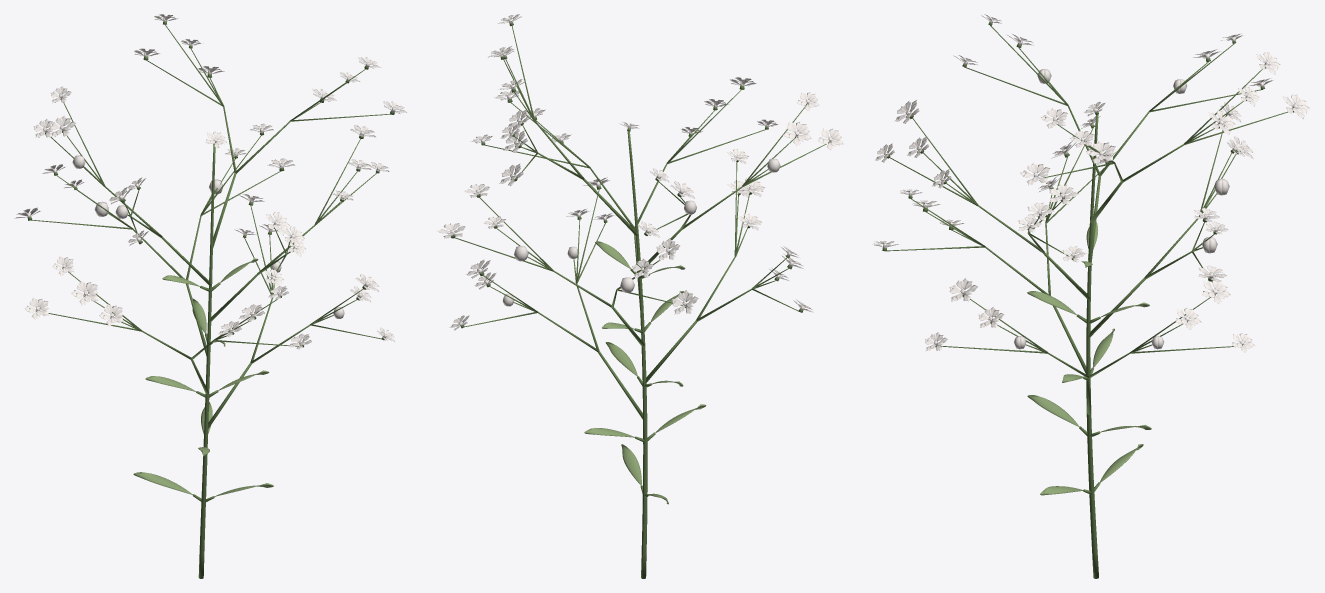
Rendered from gypsophila-legendary-v2.glb.
The picture shows the model from 3 angles, left to right: view 1: azimuth 30°, elevation 25°; view 2: azimuth 150°, elevation 25°; view 3: azimuth 270°, elevation 25°; orthographic projection. The views are drawn at different scales.
Parts seen in each view (by area): view 1: gypsophila-legendary-v2-stem, gypsophila-legendary-v2-petal, gypsophila-legendary-v2-leaf; view 2: gypsophila-legendary-v2-stem, gypsophila-legendary-v2-petal, gypsophila-legendary-v2-leaf; view 3: gypsophila-legendary-v2-petal, gypsophila-legendary-v2-stem, gypsophila-legendary-v2-leaf.
Boxes of the visible parts, <box> form: gypsophila-legendary-v2-stem: <box>27,21,394,578</box>; gypsophila-legendary-v2-petal: <box>14,14,407,349</box>; gypsophila-legendary-v2-leaf: <box>133,258,273,496</box>; gypsophila-legendary-v2-stem: <box>450,22,831,578</box>; gypsophila-legendary-v2-petal: <box>437,14,843,330</box>; gypsophila-legendary-v2-leaf: <box>584,241,706,504</box>; gypsophila-legendary-v2-petal: <box>872,14,1310,352</box>; gypsophila-legendary-v2-stem: <box>882,22,1293,578</box>; gypsophila-legendary-v2-leaf: <box>1027,222,1151,495</box>.
Size of the model in its own units: 1.38 by 1.9 by 1.38.
